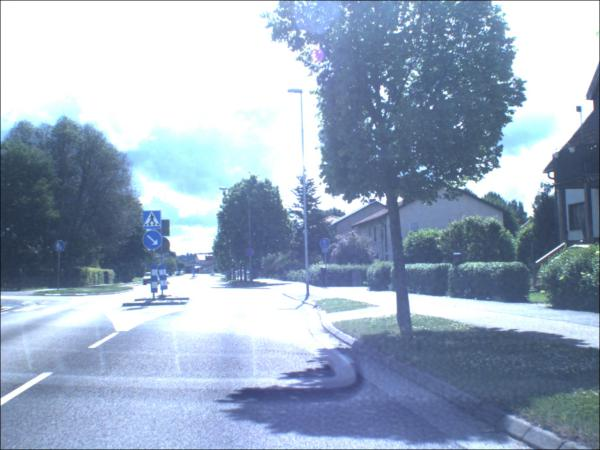NO_PARKING: (247, 248, 257, 258)
PASS_RIGHT_SIDE: (144, 231, 164, 252)
PEDESTRIAN_CROSSING: (145, 212, 164, 231)
